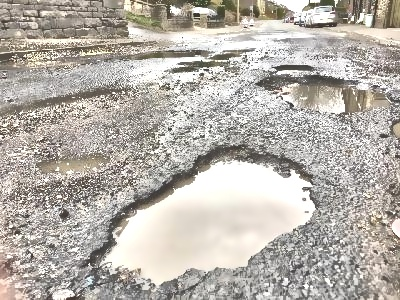pothole: (85, 140, 320, 288), (253, 73, 393, 113), (33, 151, 111, 177), (270, 62, 314, 73), (390, 119, 399, 139)
